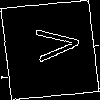V: (24, 25, 81, 64)
